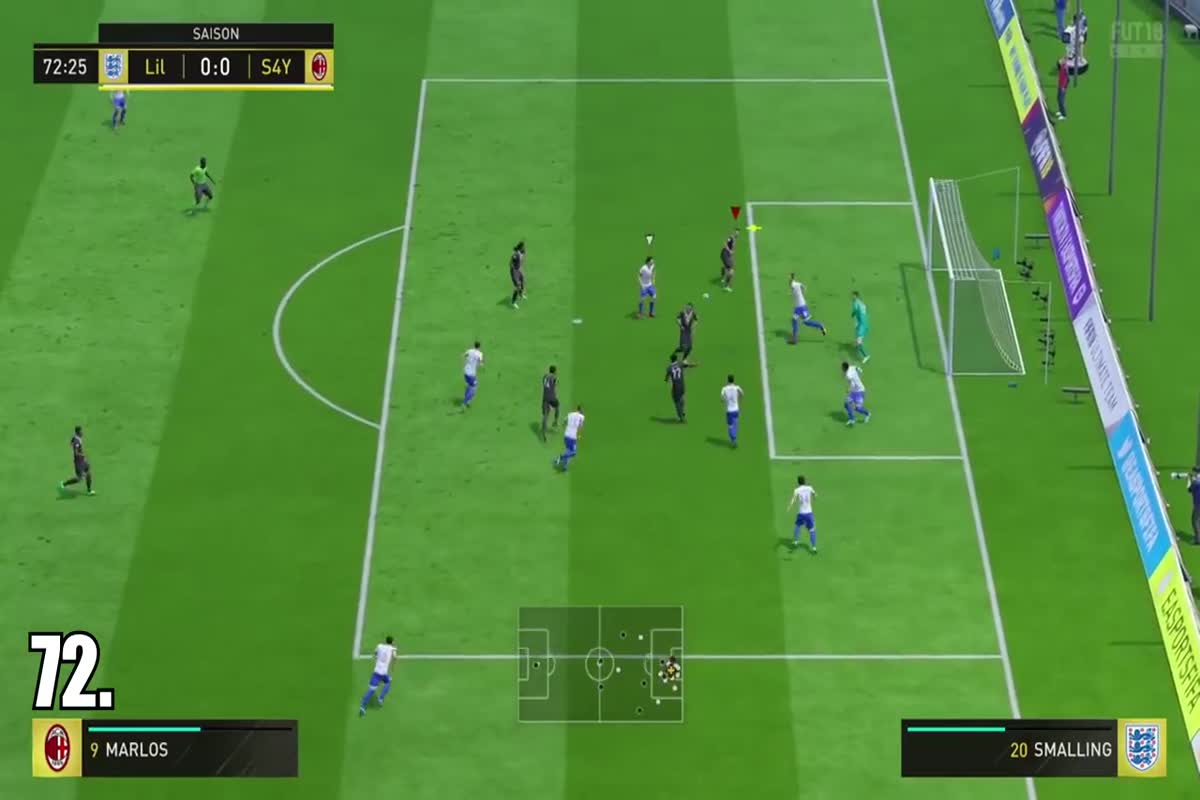ball: (695, 286, 720, 308)
